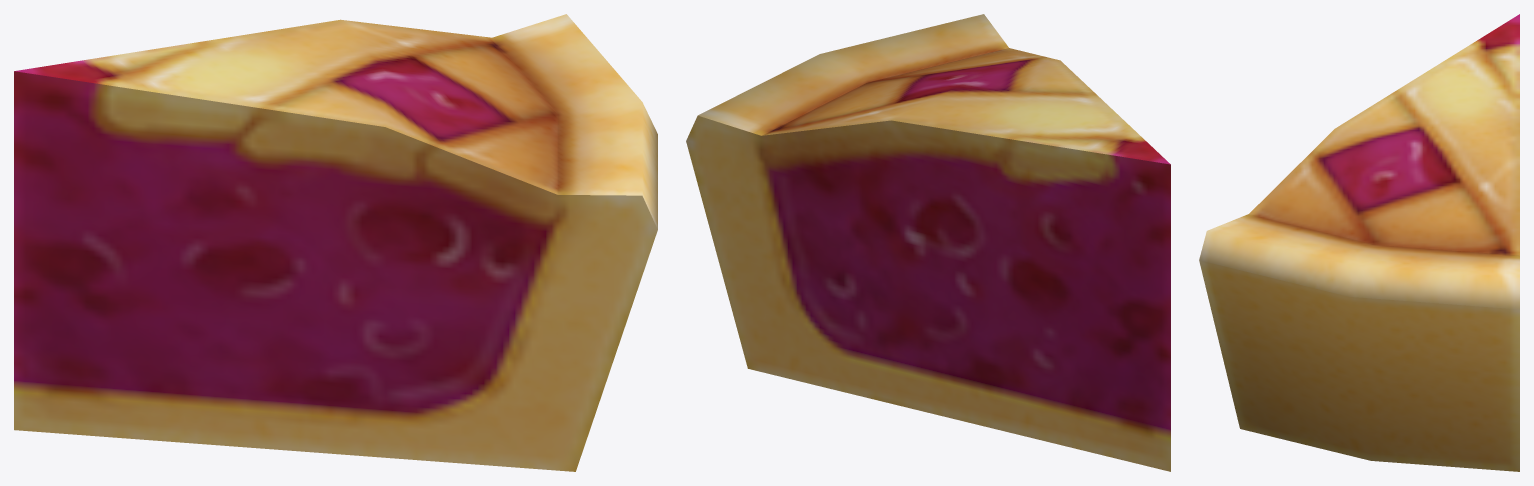
Rendered from SE_Pie_03.fbx.
3 views of the same model, side by side, from view 1: azimuth 30°, elevation 25°; view 2: azimuth 150°, elevation 25°; view 3: azimuth 270°, elevation 25° (orthographic). The views are drawn at different scales.
Visible parts, largest first — view 1: SE_Pie_03; view 2: SE_Pie_03; view 3: SE_Pie_03.
Part boxes in pixels (<box>): SE_Pie_03: <box>14,14,657,471</box>; SE_Pie_03: <box>686,14,1170,471</box>; SE_Pie_03: <box>1199,14,1519,471</box>.
Size of the model in its own units: 1.28 by 0.7776 by 0.8251.
